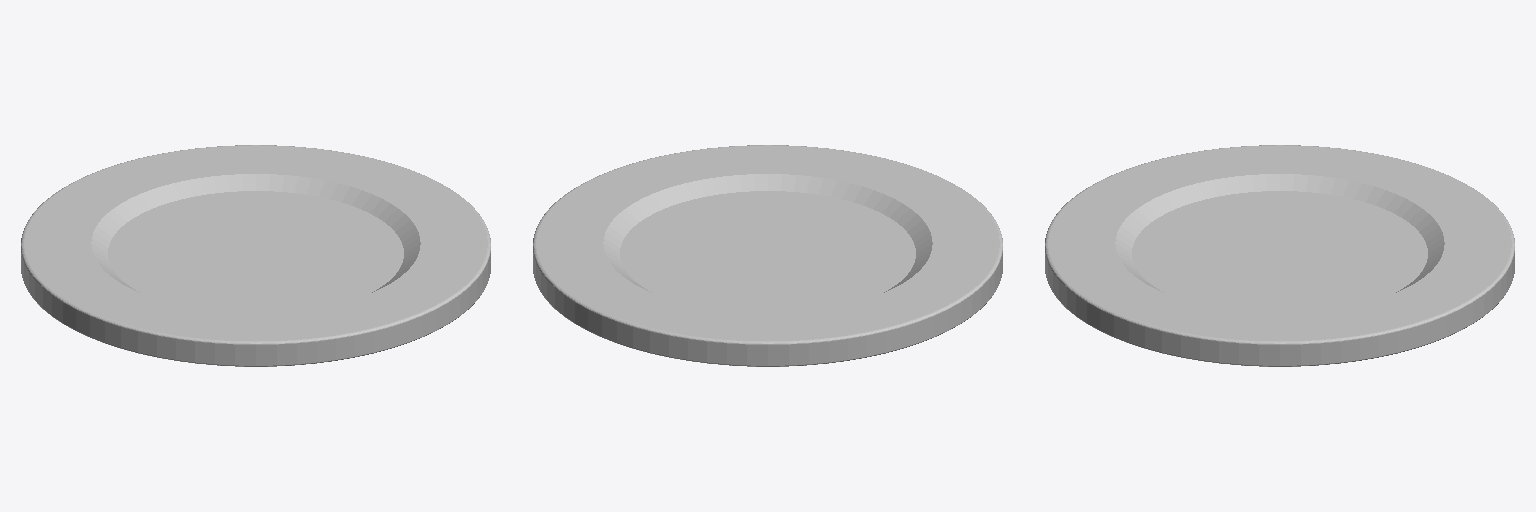
File: FancyChip.obj
3 renders of one model, left to right at view 1: azimuth 30°, elevation 25°; view 2: azimuth 150°, elevation 25°; view 3: azimuth 270°, elevation 25°, orthographic.
Parts seen in each view (by area): view 1: Cylinder.001_Cylinder.002; view 2: Cylinder.001_Cylinder.002; view 3: Cylinder.001_Cylinder.002.
Part boxes in pixels (left/top/right/bottom): Cylinder.001_Cylinder.002: left=21, top=145, right=490, bottom=366; Cylinder.001_Cylinder.002: left=533, top=145, right=1002, bottom=366; Cylinder.001_Cylinder.002: left=1045, top=145, right=1514, bottom=366.
Bounding box in the file's own units: 1.6 × 0.0942 × 1.6.